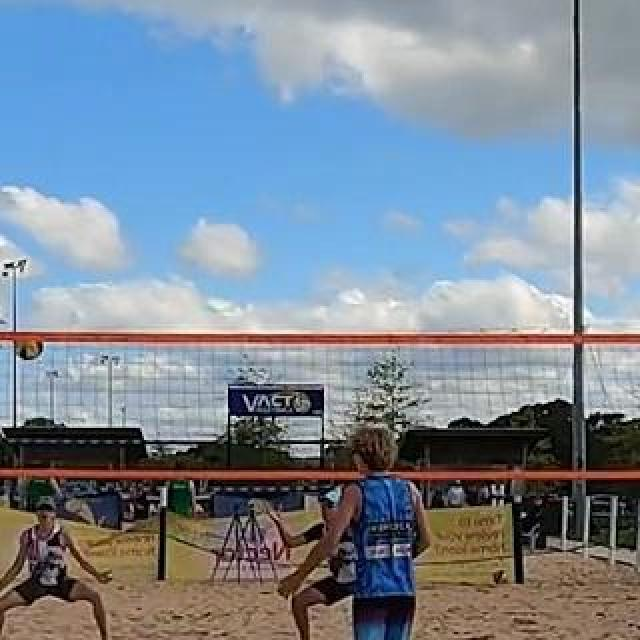volleyball: (16, 333, 46, 361), (493, 568, 509, 584)
